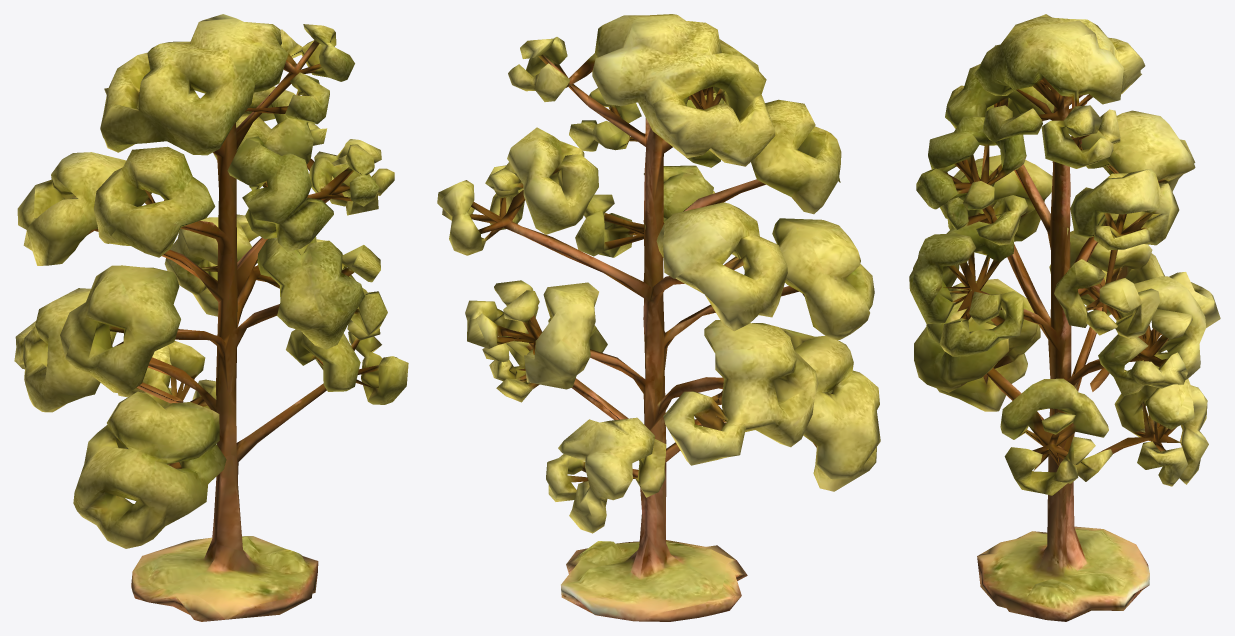
File: roundtree-2.glb
3 renders of one model, left to right at view 1: azimuth 30°, elevation 25°; view 2: azimuth 150°, elevation 25°; view 3: azimuth 270°, elevation 25°, orthographic. The views are drawn at different scales.
Visible parts, largest first — view 1: tripo_node_431f302f-7d17-42f5-b785-65a1abdb4a10; view 2: tripo_node_431f302f-7d17-42f5-b785-65a1abdb4a10; view 3: tripo_node_431f302f-7d17-42f5-b785-65a1abdb4a10.
Part boxes in pixels (x1=…): tripo_node_431f302f-7d17-42f5-b785-65a1abdb4a10: x1=14, y1=14, x2=408, y2=621; tripo_node_431f302f-7d17-42f5-b785-65a1abdb4a10: x1=437, y1=14, x2=880, y2=621; tripo_node_431f302f-7d17-42f5-b785-65a1abdb4a10: x1=909, y1=14, x2=1220, y2=621.
Bounding box in the file's own units: 0.6866 × 0.9951 × 0.5074.
1 material, 1 textured.
